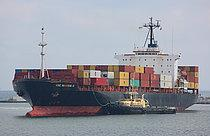Ship: (9, 17, 204, 120)
